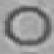no answer: (1, 1, 51, 48)
